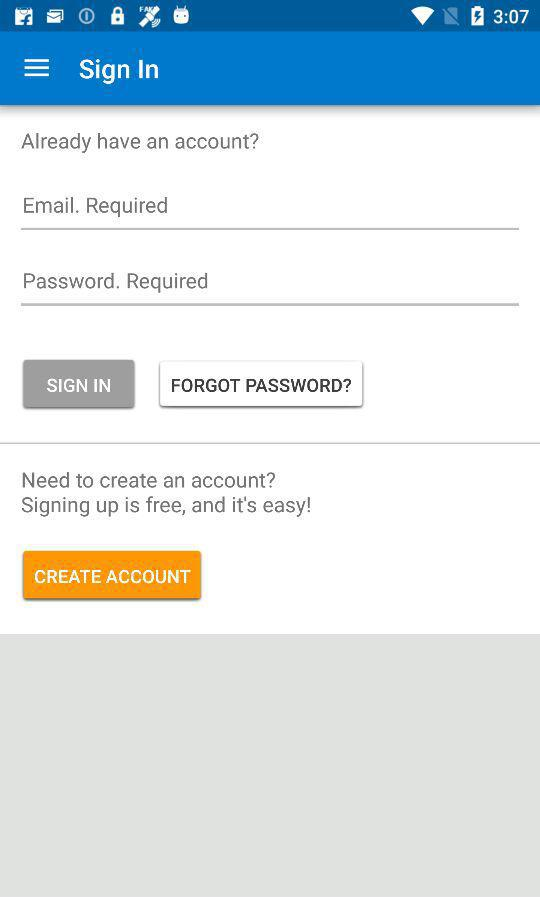EditText: (21, 197, 520, 231), (21, 273, 520, 307)
Icon: (24, 59, 51, 79)
Text: (22, 472, 312, 518), (22, 133, 260, 155), (24, 273, 208, 294), (25, 197, 169, 218), (80, 59, 160, 86)
TextButton: (159, 360, 364, 409), (23, 550, 202, 600), (23, 360, 136, 410)
Toolbar: (1, 33, 539, 106)
UpperTaskBar: (1, 1, 540, 33)
